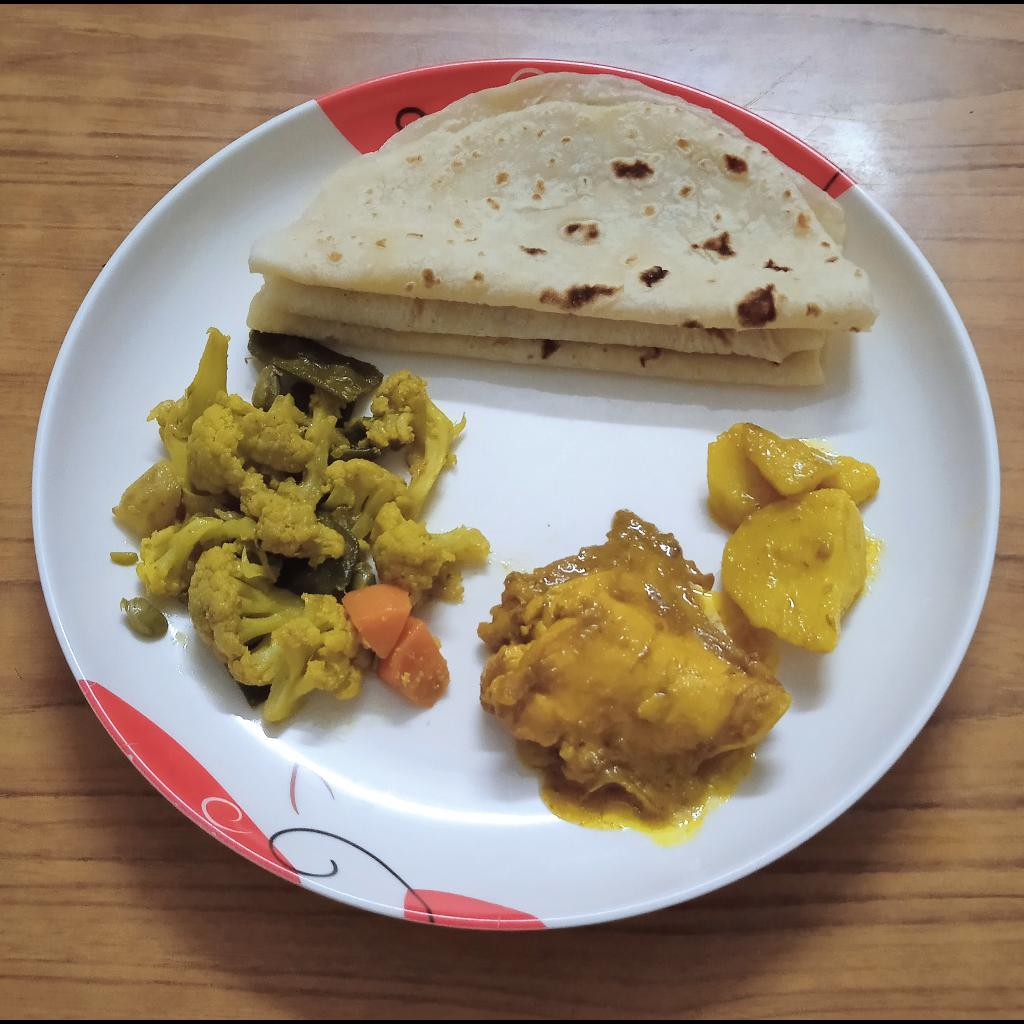cauliflower: (103, 331, 495, 736)
chicken: (471, 510, 804, 833)
potato: (707, 421, 890, 654)
ruti: (244, 69, 873, 400)
